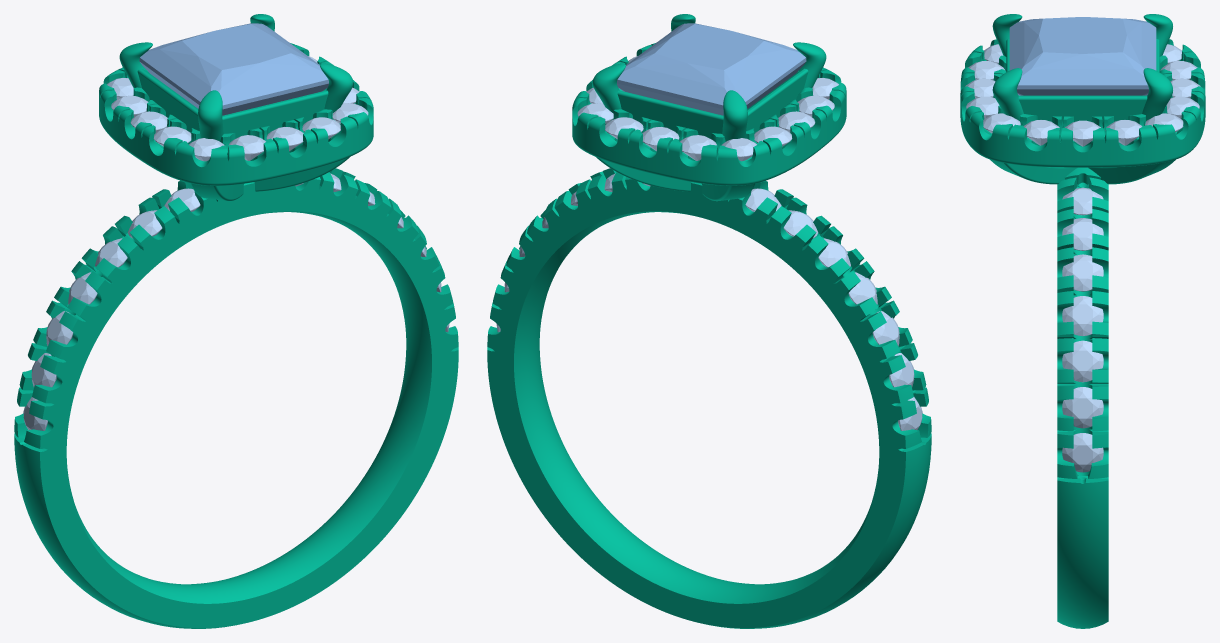
3 views of the same model, side by side, from view 1: azimuth 30°, elevation 25°; view 2: azimuth 150°, elevation 25°; view 3: azimuth 270°, elevation 25° (orthographic).
Visible parts, largest first — view 1: JTC 12748(front).3dm, Diamond_Princess; view 2: JTC 12748(front).3dm, Diamond_Princess; view 3: JTC 12748(front).3dm, Diamond_Round (×18), Diamond_Princess.
Part boxes in pixels (<box>): JTC 12748(front).3dm: <box>14,14,458,628</box>; Diamond_Princess: <box>139,23,328,115</box>; JTC 12748(front).3dm: <box>487,14,931,628</box>; Diamond_Princess: <box>617,23,806,115</box>; JTC 12748(front).3dm: <box>960,14,1205,628</box>; Diamond_Round (×18): <box>965,61,1200,472</box>; Diamond_Princess: <box>1009,17,1156,95</box>.
Bounding box in the file's own units: 2.37 × 3 × 1.17.
